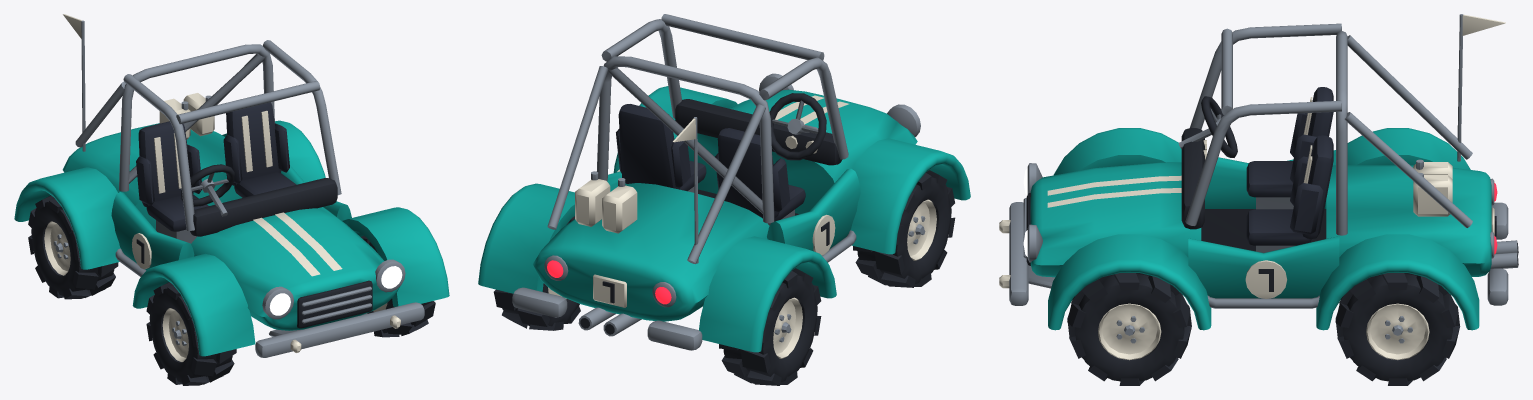
File: race-jeep.glb
3 renders of one model, left to right at view 1: azimuth 30°, elevation 25°; view 2: azimuth 150°, elevation 25°; view 3: azimuth 270°, elevation 25°, orthographic. The views are drawn at different scales.
Visible parts, largest first — view 1: Scout 4x4 Rally teal, Scout 4x4 Gunmetal, Scout 4x4 Seat fabric, Scout 4x4 Trail rubber, Scout 4x4 Rally ivory, Tire tread.001, Tire tread, Rim.001, Rim, Tire tread.002, Scout 4x4 Headlamp glow; view 2: Scout 4x4 Rally teal, Scout 4x4 Gunmetal, Scout 4x4 Seat fabric, Scout 4x4 Rally ivory, Scout 4x4 Trail rubber, Tire tread.001, Tire tread, Tire tread.003, Rim.001, Rim, Scout 4x4 Tail lamp ruby; view 3: Scout 4x4 Rally teal, Scout 4x4 Gunmetal, Tire tread.003, Tire tread.002, Scout 4x4 Seat fabric, Scout 4x4 Rally ivory, Scout 4x4 Trail rubber, Rim.003, Rim.002.
Boxes of the visible parts, x1,y1,x2,y2 form: Scout 4x4 Rally teal: [14, 120, 449, 356]; Scout 4x4 Gunmetal: [75, 20, 424, 357]; Scout 4x4 Seat fabric: [136, 102, 296, 231]; Scout 4x4 Trail rubber: [136, 164, 372, 328]; Scout 4x4 Rally ivory: [63, 14, 400, 352]; Tire tread.001: [28, 195, 118, 299]; Tire tread: [146, 282, 236, 385]; Rim.001: [44, 221, 70, 275]; Rim: [162, 308, 188, 361]; Tire tread.002: [361, 236, 435, 337]; Scout 4x4 Headlamp glow: [269, 266, 402, 315]; Scout 4x4 Rally teal: [478, 86, 970, 352]; Scout 4x4 Gunmetal: [512, 14, 920, 350]; Scout 4x4 Seat fabric: [616, 104, 805, 221]; Scout 4x4 Rally ivory: [575, 95, 848, 307]; Scout 4x4 Trail rubber: [580, 93, 841, 334]; Tire tread.001: [719, 268, 821, 385]; Tire tread: [853, 170, 955, 287]; Tire tread.003: [493, 216, 580, 330]; Rim.001: [773, 297, 802, 358]; Rim: [907, 199, 936, 260]; Scout 4x4 Tail lamp ruby: [547, 260, 671, 304]; Scout 4x4 Rally teal: [1030, 128, 1491, 330]; Scout 4x4 Gunmetal: [1009, 14, 1518, 308]; Tire tread.003: [1335, 273, 1460, 385]; Tire tread.002: [1067, 273, 1191, 385]; Scout 4x4 Seat fabric: [1246, 87, 1333, 245]; Scout 4x4 Rally ivory: [999, 14, 1505, 298]; Scout 4x4 Trail rubber: [1026, 96, 1518, 291]; Rim.003: [1366, 303, 1429, 360]; Rim.002: [1098, 303, 1161, 360].
Size of the model in its own units: 2.5 by 2.34 by 3.99.
